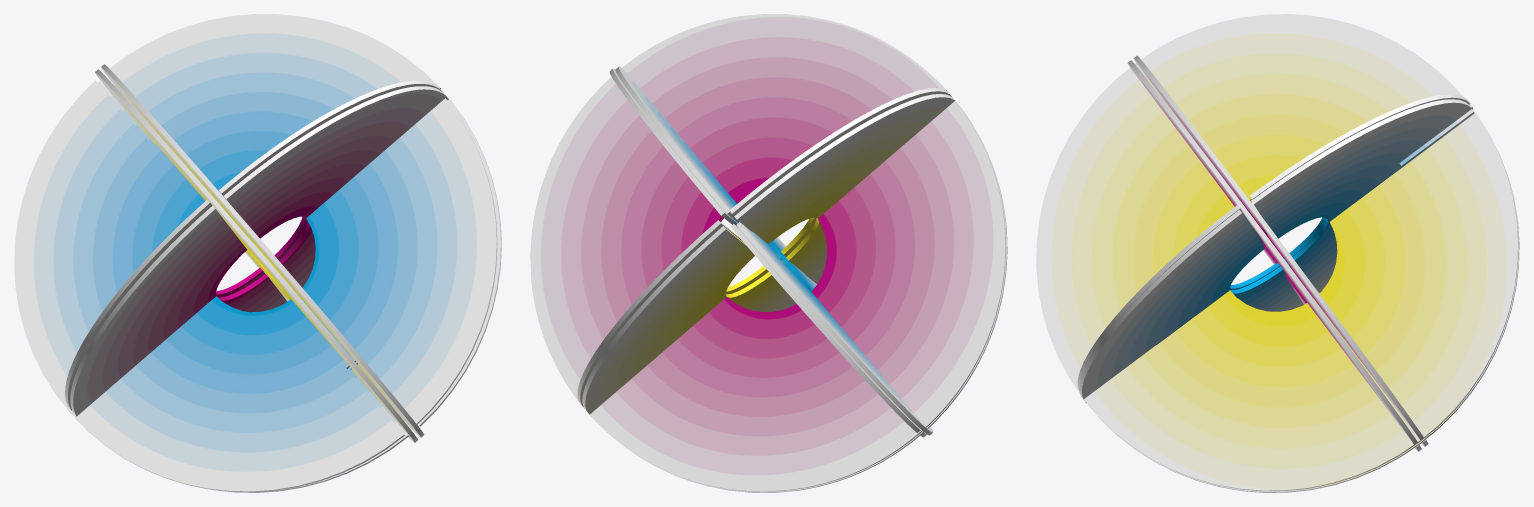
The model's file is SVD7.glb.
The picture shows the model from 3 angles, left to right: view 1: azimuth 30°, elevation 25°; view 2: azimuth 150°, elevation 25°; view 3: azimuth 270°, elevation 25°; orthographic projection.
Parts seen in each view (by area): view 1: a15a7696-0020-4511-854a-2a2e96c2e5b6.002, a11a5ec5-8ead-45b8-9e66-54805de04663, d3046108-c951-4101-a0df-0d00e0adc2ca, a86af59d-0d80-44bb-ad23-0bb8bf08e8c1, e4377388-ab84-496a-9ca3-fb03cccc859a, a15a7696-0020-4511-854a-2a2e96c2e5b6.001, cb9fbe13-846f-4735-90b5-546bf9a92ee2, a85c415e-f366-426d-b2b7-87c80f8a4efa; view 2: cb9fbe13-846f-4735-90b5-546bf9a92ee2, a85c415e-f366-426d-b2b7-87c80f8a4efa, a86af59d-0d80-44bb-ad23-0bb8bf08e8c1, a15a7696-0020-4511-854a-2a2e96c2e5b6.002, e4377388-ab84-496a-9ca3-fb03cccc859a, a15a7696-0020-4511-854a-2a2e96c2e5b6.001, a11a5ec5-8ead-45b8-9e66-54805de04663; view 3: e4377388-ab84-496a-9ca3-fb03cccc859a, a15a7696-0020-4511-854a-2a2e96c2e5b6.001, a85c415e-f366-426d-b2b7-87c80f8a4efa, d3046108-c951-4101-a0df-0d00e0adc2ca, a15a7696-0020-4511-854a-2a2e96c2e5b6.002, a86af59d-0d80-44bb-ad23-0bb8bf08e8c1.
Boxes of the visible parts, x1,y1,x2,y2 form: a15a7696-0020-4511-854a-2a2e96c2e5b6.002: (14,14,497,492); a11a5ec5-8ead-45b8-9e66-54805de04663: (70,205,287,416); d3046108-c951-4101-a0df-0d00e0adc2ca: (224,86,448,287); a86af59d-0d80-44bb-ad23-0bb8bf08e8c1: (95,69,417,442); e4377388-ab84-496a-9ca3-fb03cccc859a: (101,64,424,437); a15a7696-0020-4511-854a-2a2e96c2e5b6.001: (98,17,501,492); cb9fbe13-846f-4735-90b5-546bf9a92ee2: (65,199,264,410); a85c415e-f366-426d-b2b7-87c80f8a4efa: (219,80,443,260); cb9fbe13-846f-4735-90b5-546bf9a92ee2: (590,101,1006,491); a85c415e-f366-426d-b2b7-87c80f8a4efa: (530,14,946,403); a86af59d-0d80-44bb-ad23-0bb8bf08e8c1: (582,94,955,414); a15a7696-0020-4511-854a-2a2e96c2e5b6.002: (615,66,933,435); e4377388-ab84-496a-9ca3-fb03cccc859a: (577,88,951,408); a15a7696-0020-4511-854a-2a2e96c2e5b6.001: (609,68,926,437); a11a5ec5-8ead-45b8-9e66-54805de04663: (626,102,1007,492); e4377388-ab84-496a-9ca3-fb03cccc859a: (1036,14,1518,491); a15a7696-0020-4511-854a-2a2e96c2e5b6.001: (1079,99,1474,403); a85c415e-f366-426d-b2b7-87c80f8a4efa: (1133,55,1423,439); d3046108-c951-4101-a0df-0d00e0adc2ca: (1127,60,1417,444); a15a7696-0020-4511-854a-2a2e96c2e5b6.002: (1077,94,1473,390); a86af59d-0d80-44bb-ad23-0bb8bf08e8c1: (1084,134,1519,492).
Size of the model in its own units: 4.13 by 3.64 by 4.23.
Materials: 8 (8 with a texture image).
